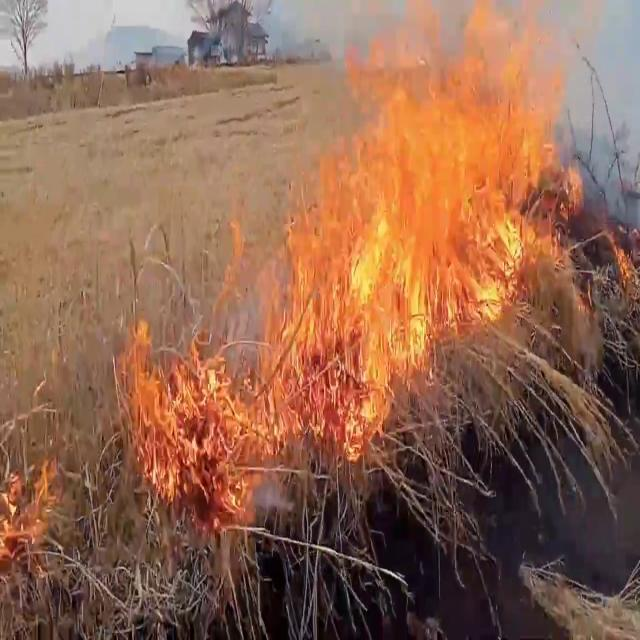Fire: (274, 1, 636, 448), (113, 207, 345, 518), (2, 436, 79, 562)
